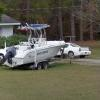Boat: (2, 30, 68, 73)
